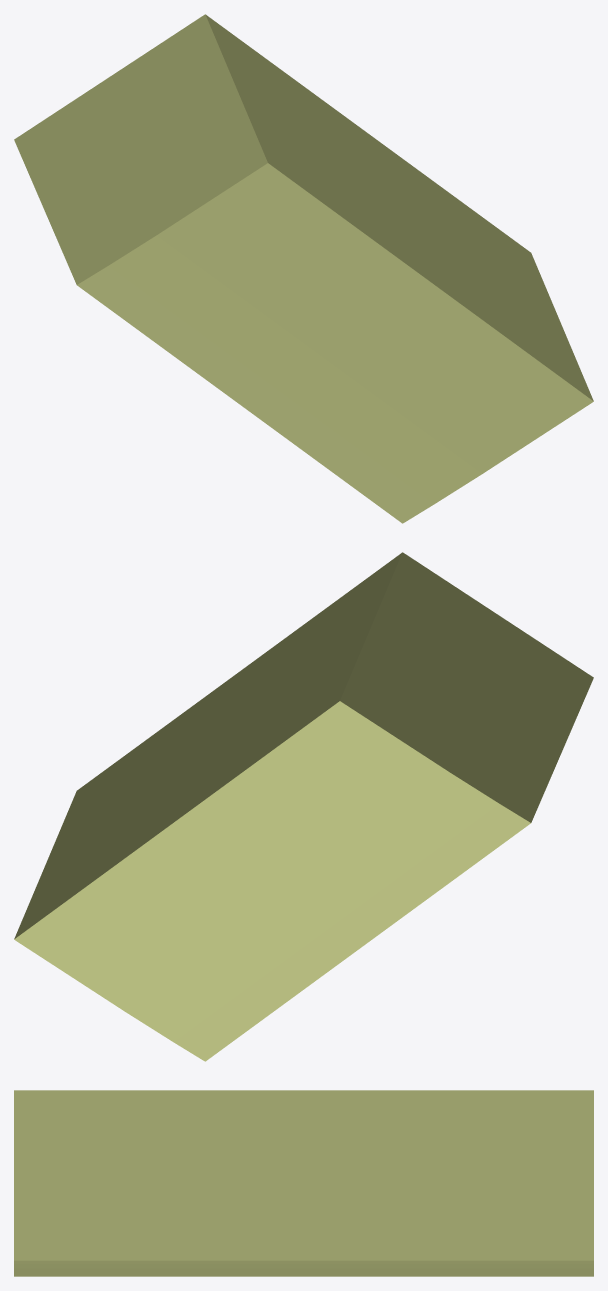
The picture shows the model from 3 angles, top to bottom: view 1: azimuth 30°, elevation 25°; view 2: azimuth 150°, elevation 25°; view 3: azimuth 270°, elevation 25°; orthographic projection. The views are drawn at different scales.
Parts seen in each view (by area): view 1: 0_1_3_2_1_1_3_2_2_1_2_2; view 2: 0_1_3_2_1_1_3_2_2_1_2_2; view 3: 0_1_3_2_1_1_3_2_2_1_2_2.
Boxes of the visible parts, x1,y1,x2,y2 form: 0_1_3_2_1_1_3_2_2_1_2_2: [14, 14, 593, 523]; 0_1_3_2_1_1_3_2_2_1_2_2: [14, 552, 593, 1061]; 0_1_3_2_1_1_3_2_2_1_2_2: [14, 1090, 593, 1276].
Bounding box in the file's own units: 4.05 × 3.65 × 9.
